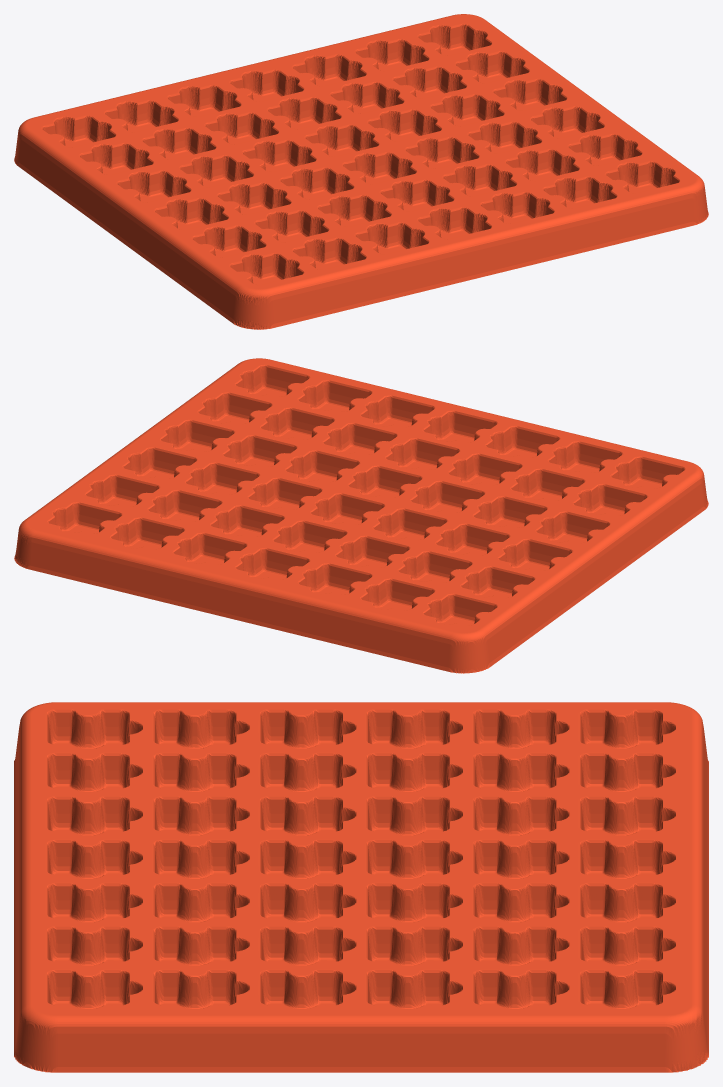
Rendered from mold.glb.
3 views of the same model, one above another, from view 1: azimuth 30°, elevation 25°; view 2: azimuth 150°, elevation 25°; view 3: azimuth 270°, elevation 25° (orthographic). The views are drawn at different scales.
Visible parts, largest first — view 1: geometry_0; view 2: geometry_0; view 3: geometry_0.
Part boxes in pixels (box(x1,y1,x2,y2)): geometry_0: box(14, 14, 708, 329); geometry_0: box(14, 358, 708, 673); geometry_0: box(14, 702, 708, 1072).
Bounding box in the file's own units: 0.16 × 0.0114 × 0.1437.
